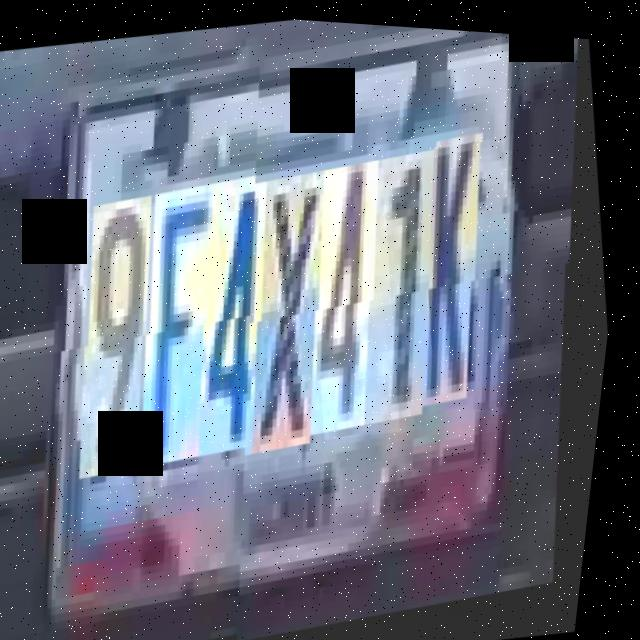1: (341, 146, 489, 428)
4: (175, 178, 322, 467), (288, 157, 432, 438)
9: (57, 199, 208, 490)
F: (117, 187, 268, 478)
K: (399, 130, 536, 410)
X: (229, 167, 380, 458)
